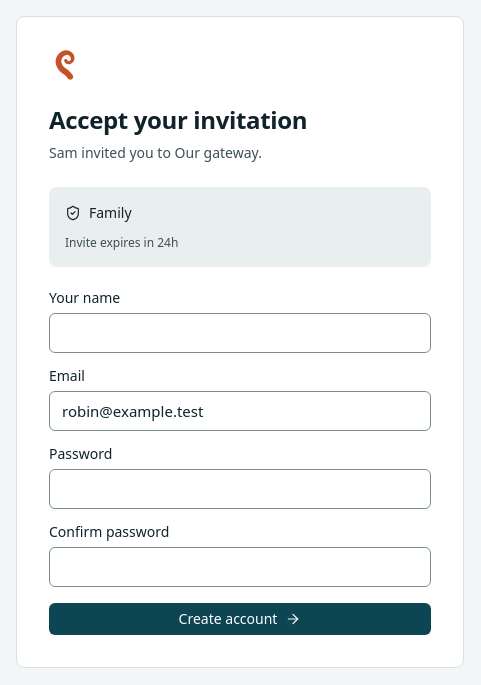
Test case: Invite: the welcome card's line on prompts › says nothing is kept when the household turned prompts off
In the field labelled "Your name": x=240, y=333 [49,313,431,353], type "Robin"
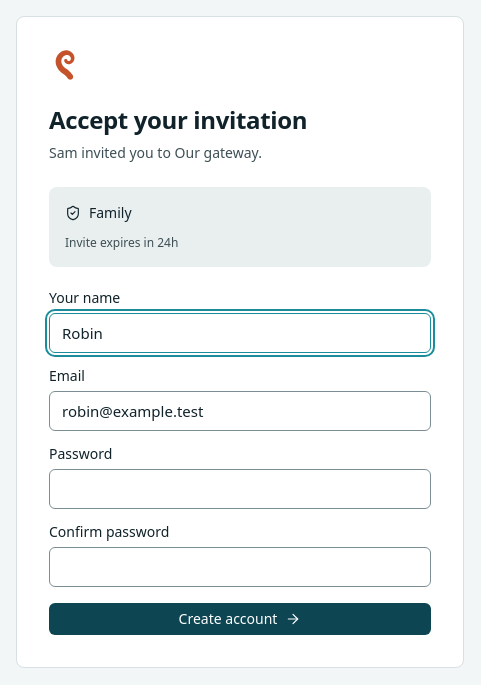
In the password field labelled "Password": x=240, y=489 [49,469,431,509], type "long-enough-password"
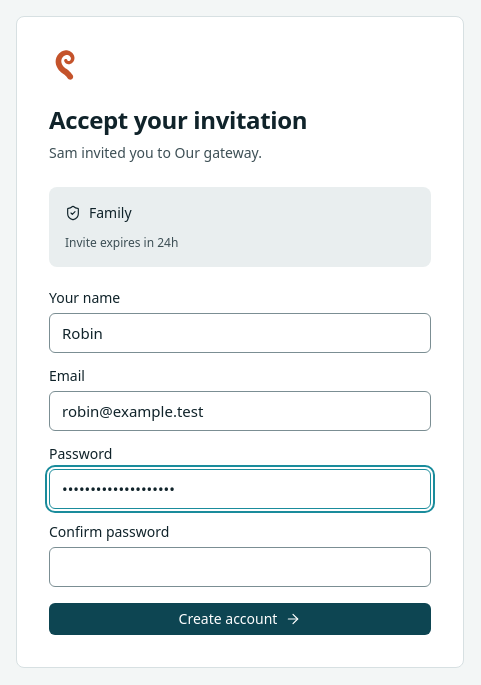
In the password field labelled "Confirm password": x=240, y=567 [49,547,431,587], type "long-enough-password"
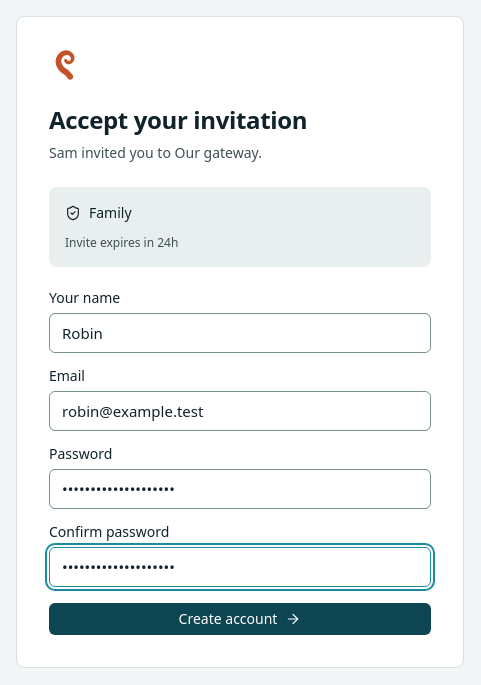
Click the button "Create account": x=240, y=619 [49,603,431,635]
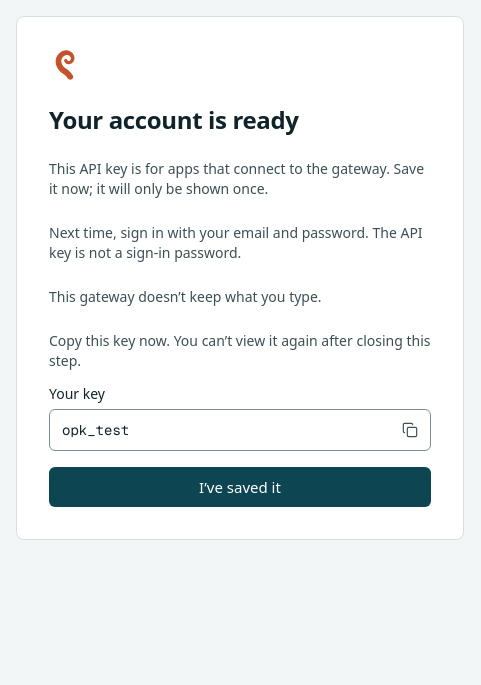
Check: the heading "Your account is ready" is shown, box [49,103,299,136]
Check: the text "This gateway doesn’t keep what you type." is shown, box [49,287,322,306]
